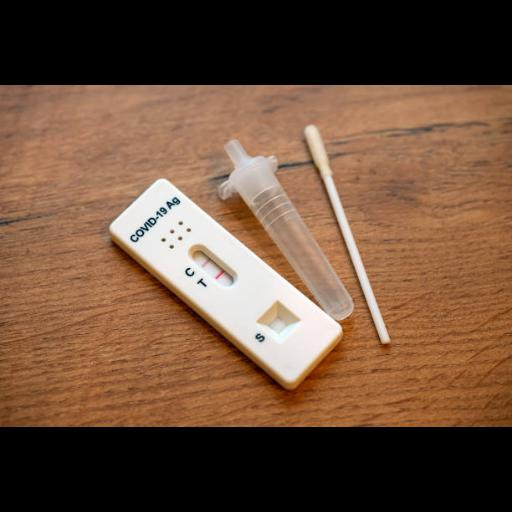Pos: (107, 177, 343, 383)
